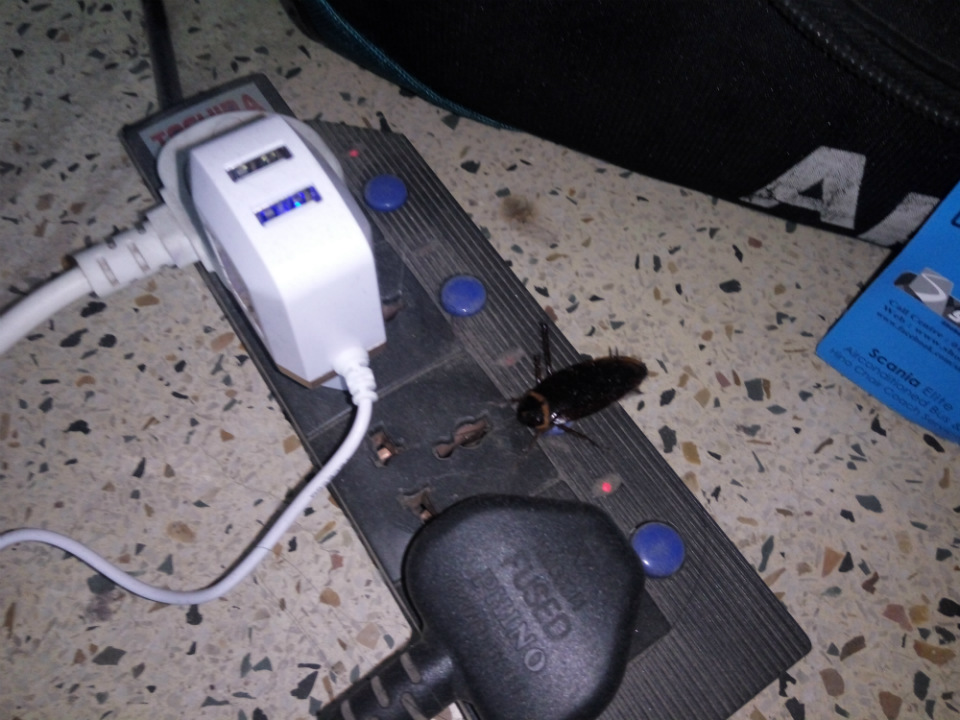cockroach: (433, 298, 668, 435)
